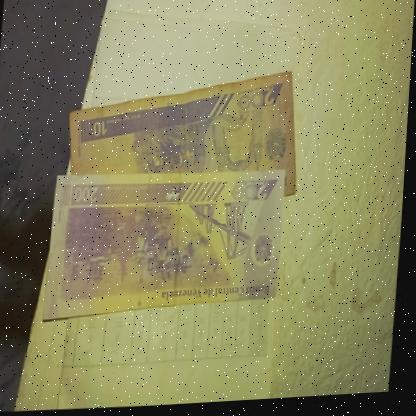two_hundred-back-vef: (46, 165, 288, 327)
